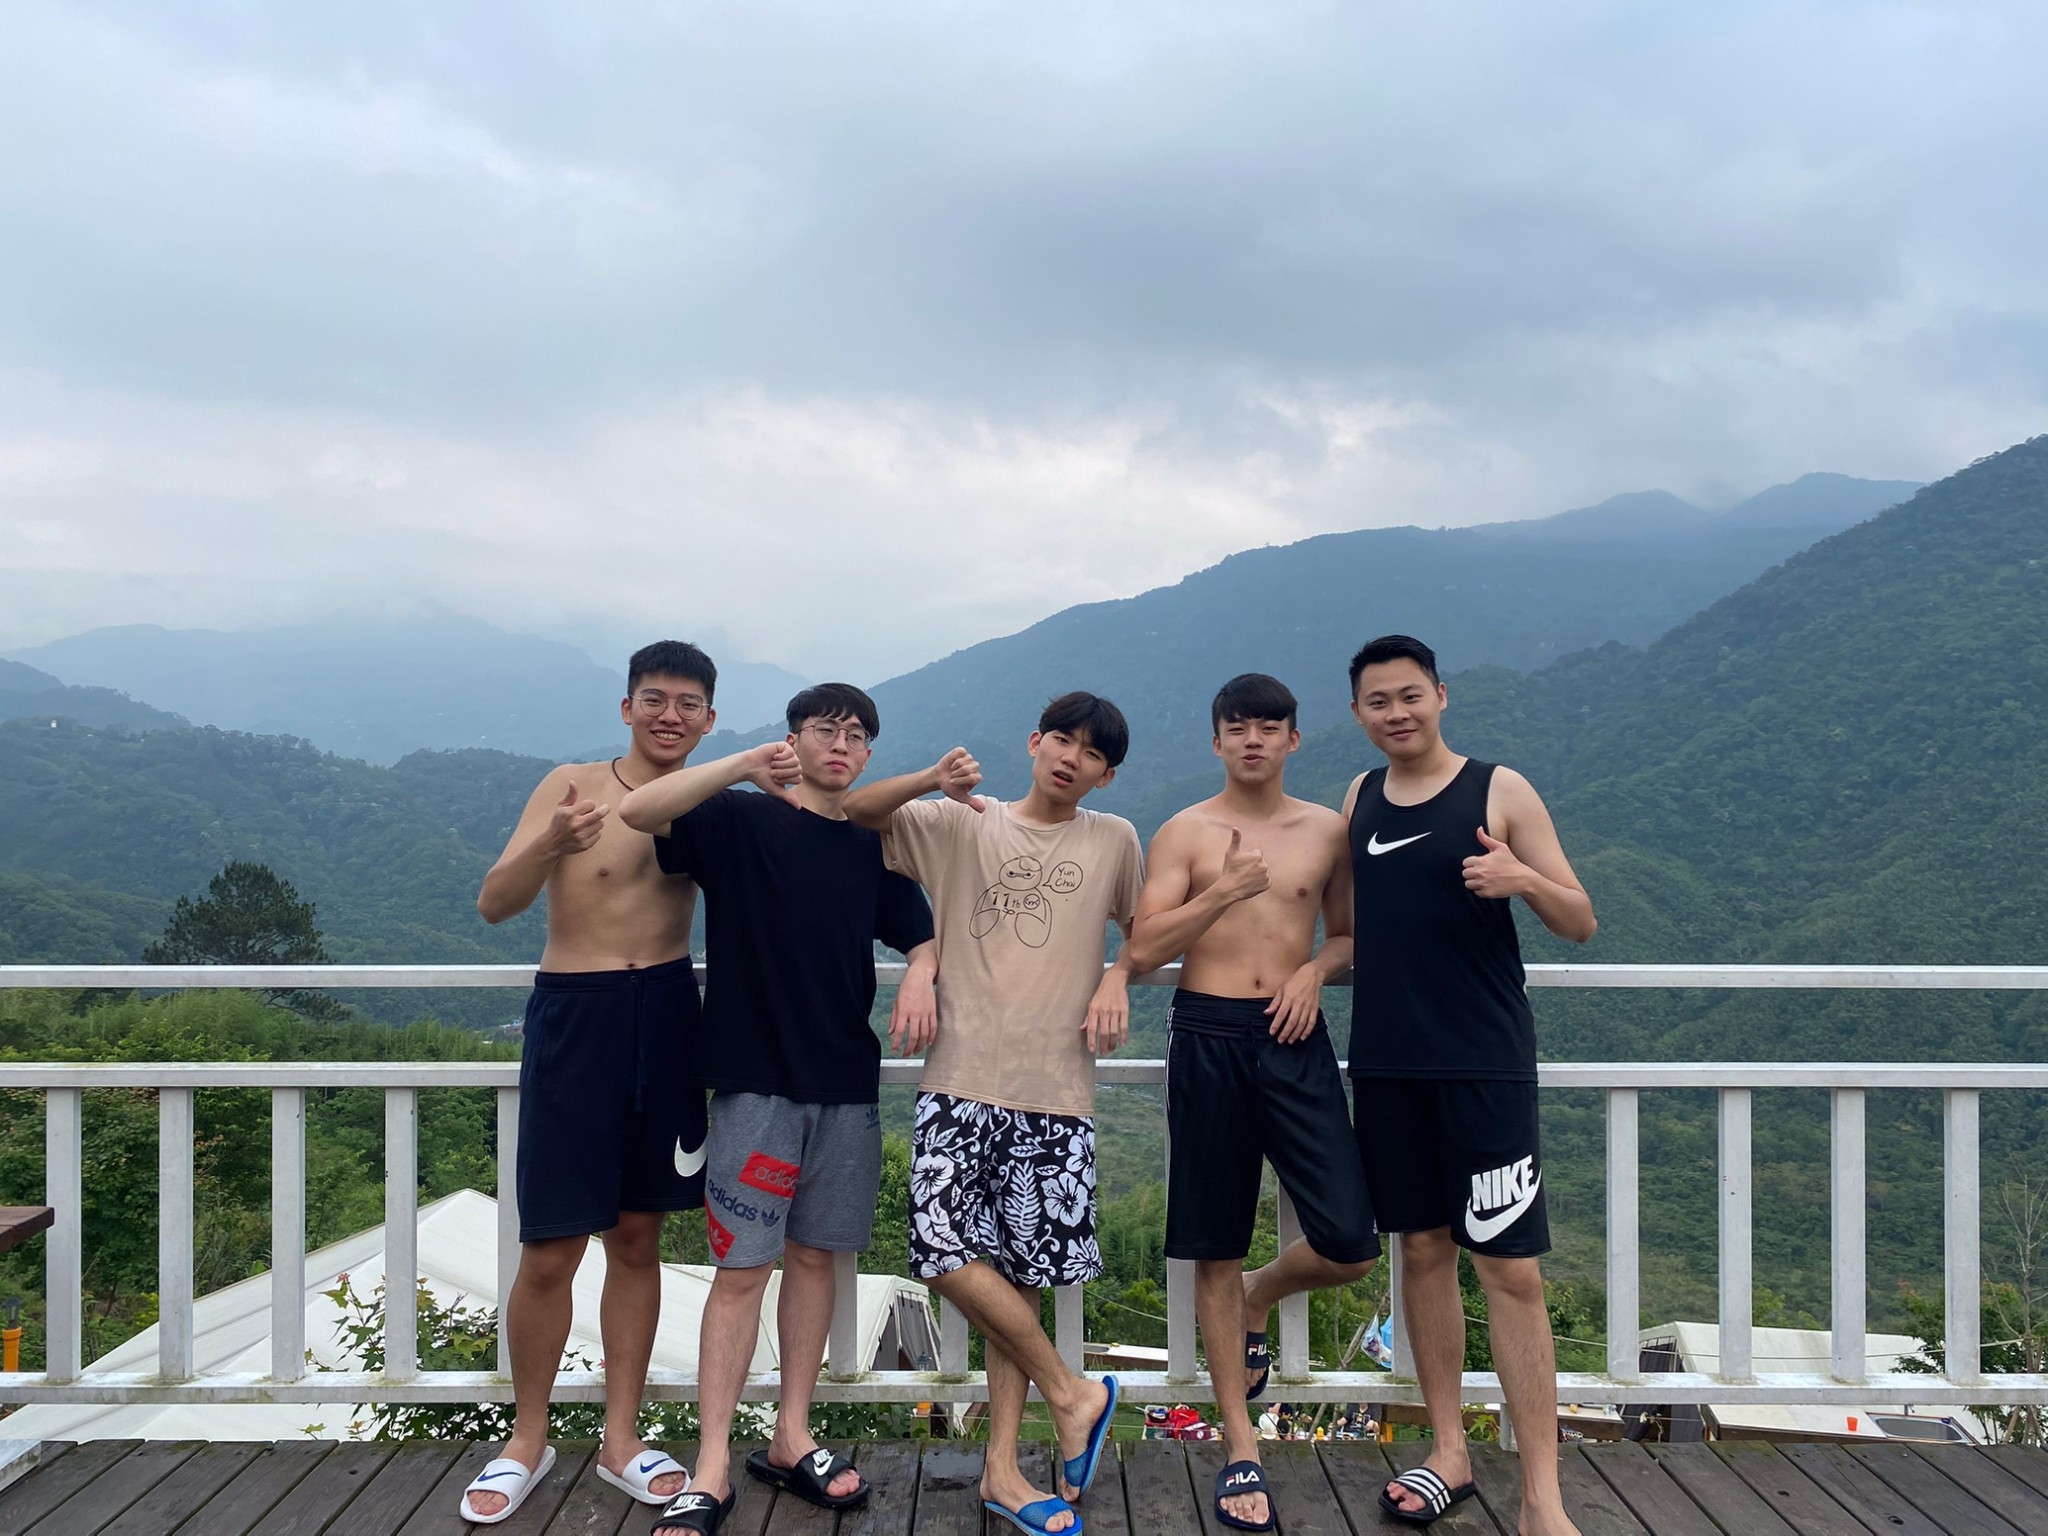people: (1313, 634, 1581, 1536), (1163, 660, 1366, 1531), (496, 634, 675, 1510), (943, 693, 1131, 1519), (702, 684, 875, 1516)
